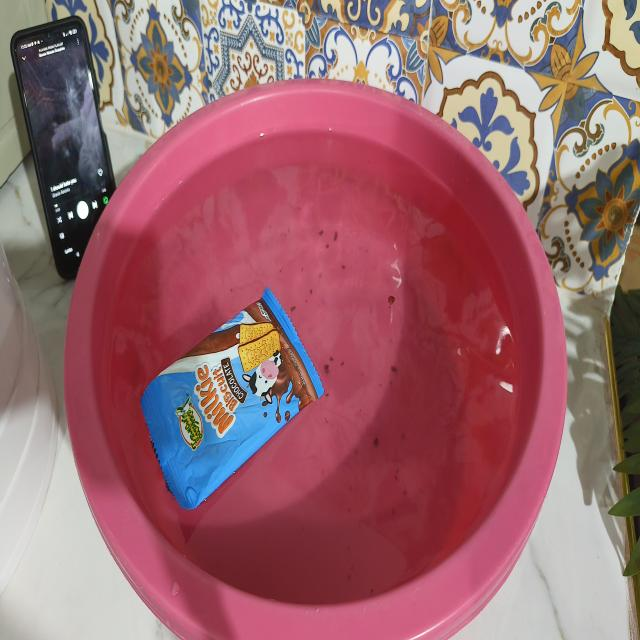Plastic Wrapper: (120, 267, 342, 561)
